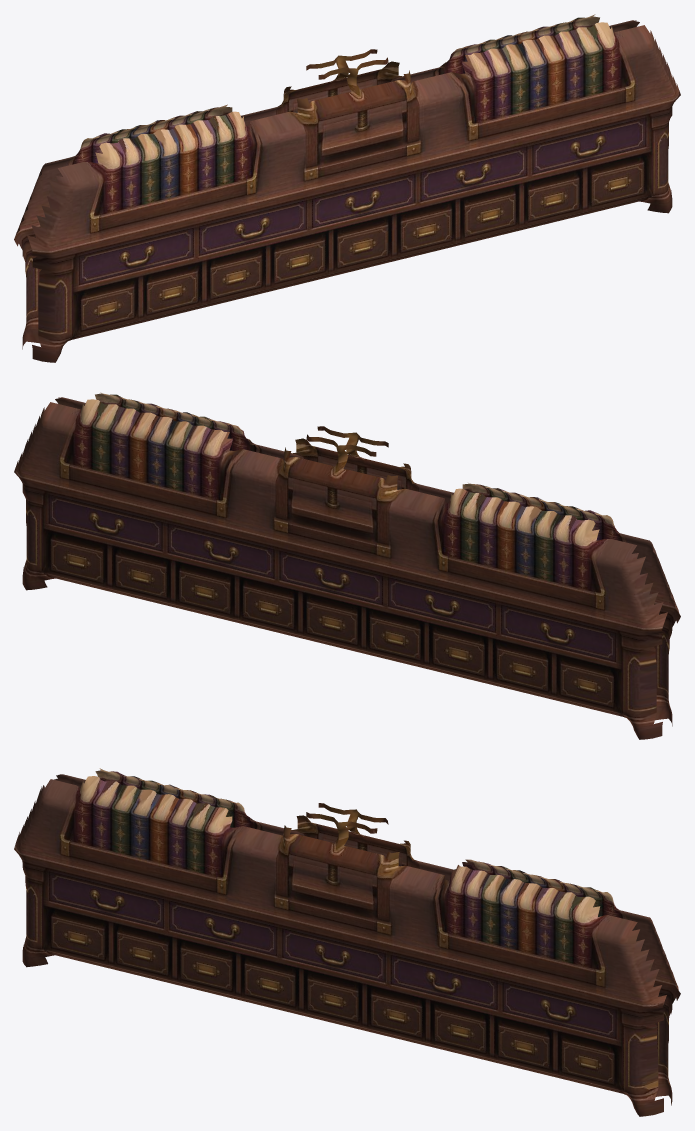
Rendered from v4-arcane-emporium-scatter-workbench.glb.
The picture shows the model from 3 angles, top to bottom: view 1: azimuth 30°, elevation 25°; view 2: azimuth 150°, elevation 25°; view 3: azimuth 330°, elevation 25°; orthographic projection.
Visible parts, largest first — view 1: v4-arcane-emporium-scatter-workbench; view 2: v4-arcane-emporium-scatter-workbench; view 3: v4-arcane-emporium-scatter-workbench.
Part boxes in pixels (x1,y1,x2,y2): v4-arcane-emporium-scatter-workbench: (14,14,680,362); v4-arcane-emporium-scatter-workbench: (14,392,680,739); v4-arcane-emporium-scatter-workbench: (14,768,680,1116).
Bounding box in the file's own units: 3.02 × 0.9592 × 0.24.
Materials: 1 (1 with a texture image).
